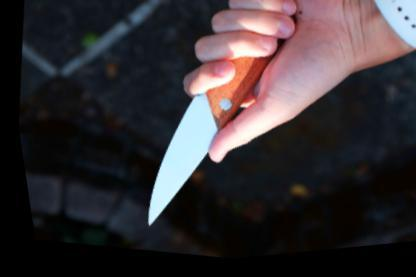knife: (108, 14, 304, 257)
